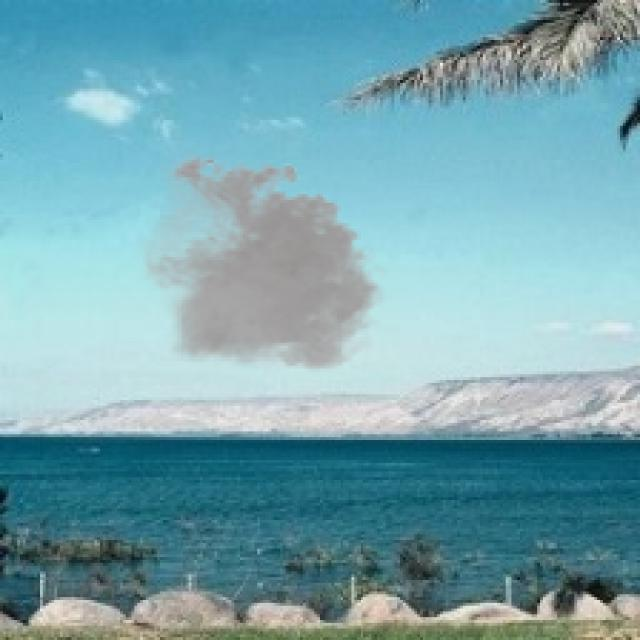smoke: (129, 149, 394, 380)
